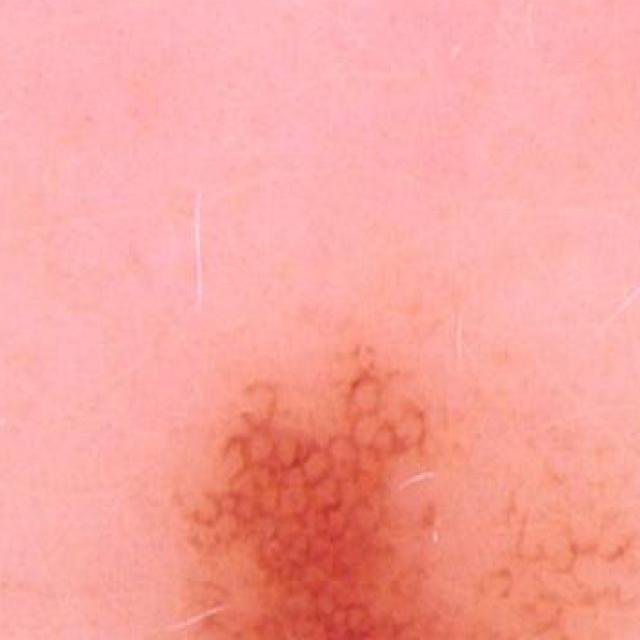NV: (131, 322, 627, 640)
